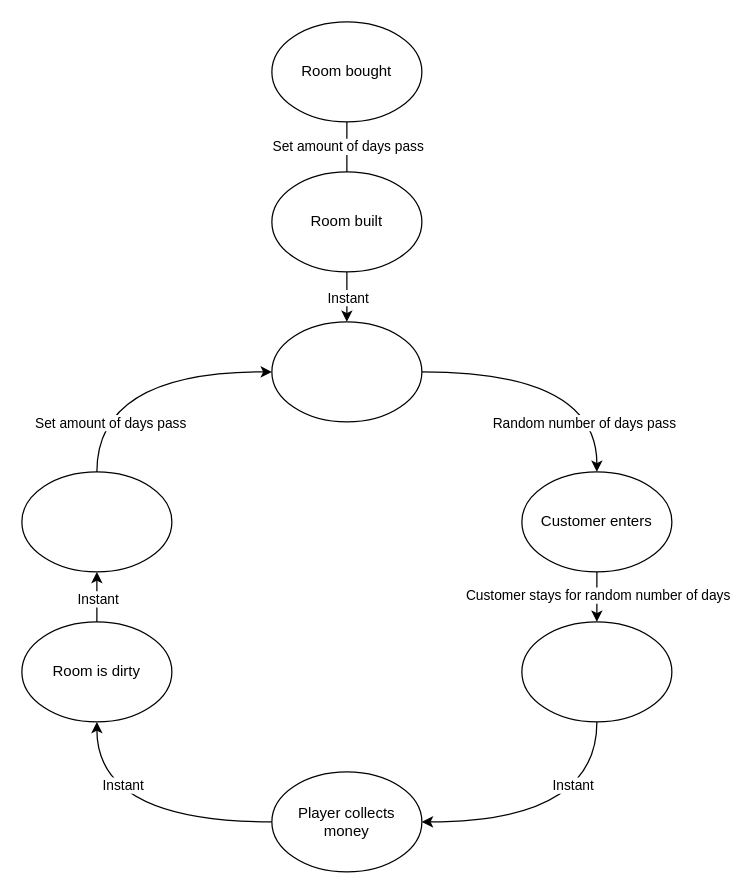
Image size: 751x894. Some labels were removed from this diagram. The shapes that lost their labels are listed below. From the top down, each one's centre as x and y in pixels, then its label:
At point (346, 371): "Room is empty & ready for customer".
At point (96, 521): "Room is being cleaned".
At point (596, 671): "Customer leaves".
